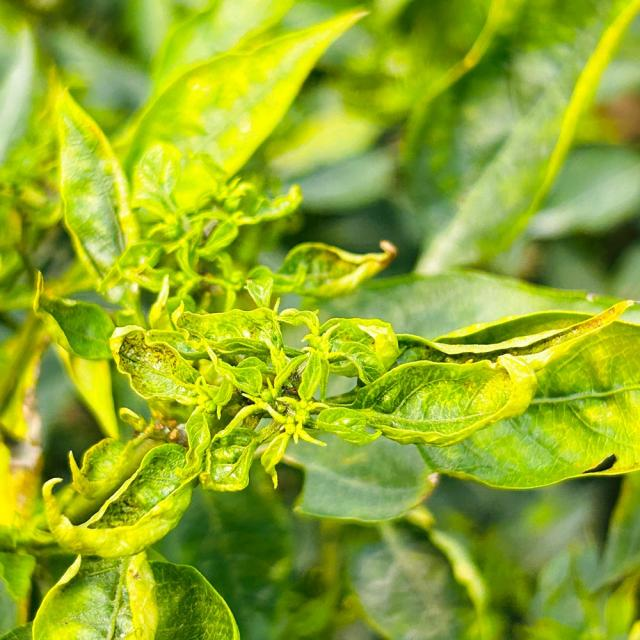Chilli_Leaf_Curl: (1, 0, 638, 638), (40, 278, 638, 560), (314, 297, 638, 491)
